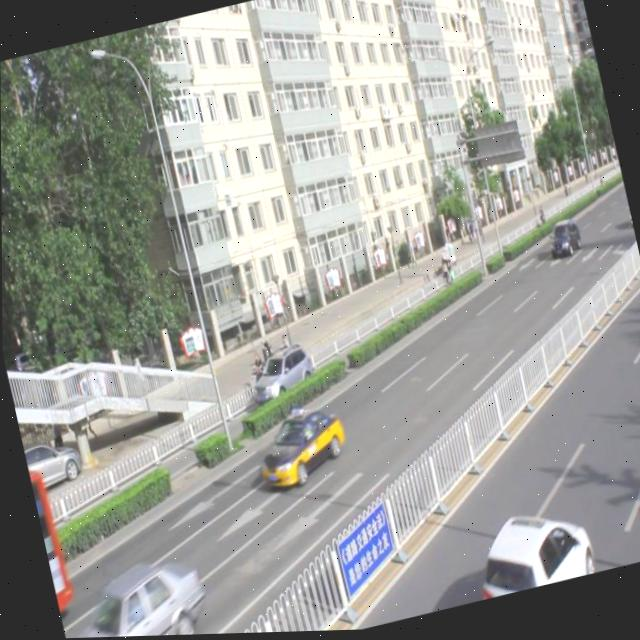car: (51, 549, 214, 639), (464, 498, 596, 603), (248, 403, 351, 493), (243, 342, 319, 406)
van: (25, 452, 80, 633)
